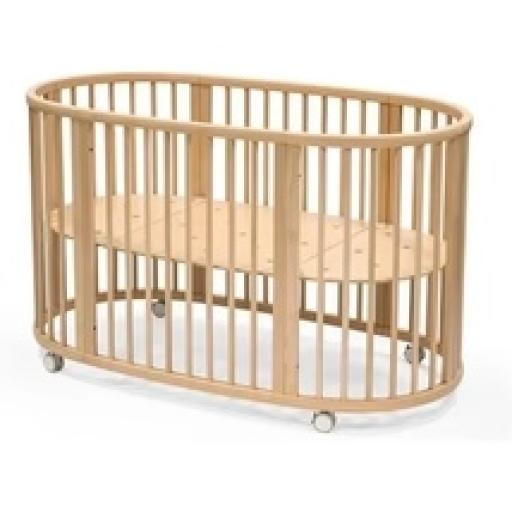crib: (29, 75, 471, 430)
